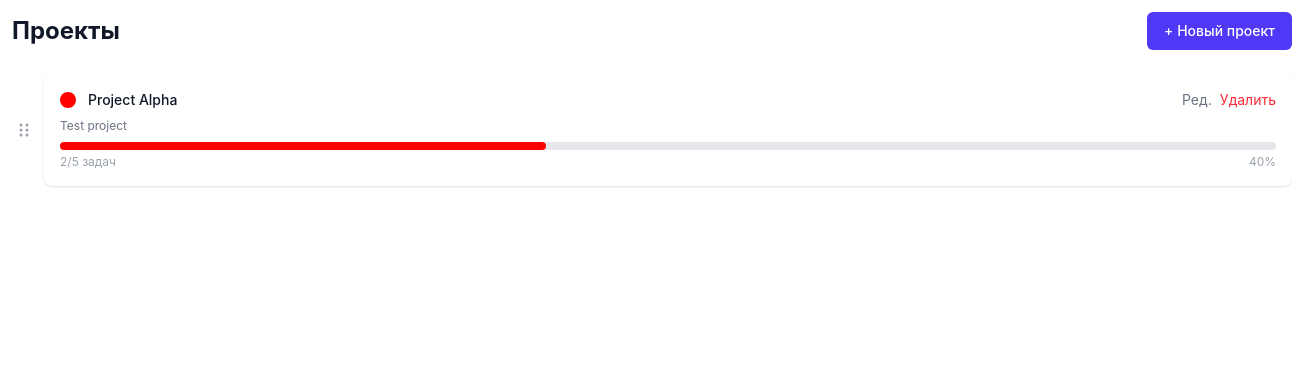
Test: Projects page › project CRUD › shows create form on new project click
Click the button "+ Новый проект".
click(1220, 31)  # box [1147,12,1292,50]
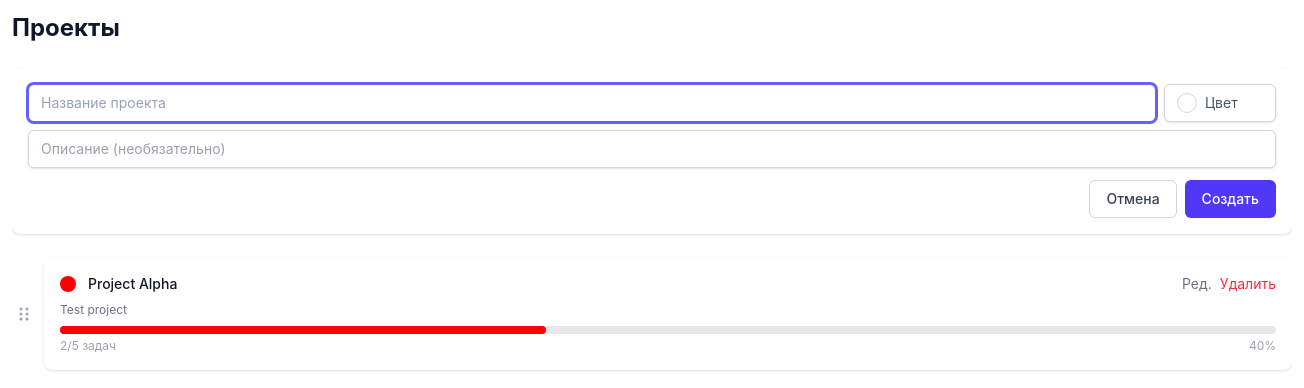
Check: the field with placeholder "Название проекта" is shown, box [28,84,1156,122]
